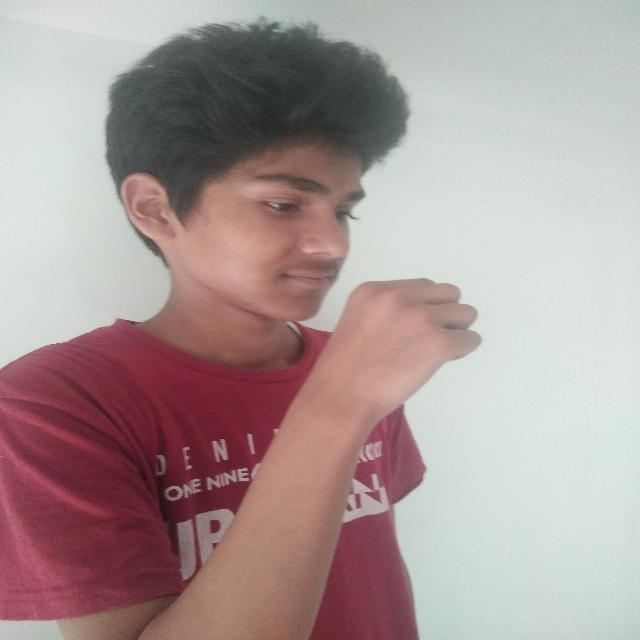Fist Mouth: (107, 35, 503, 424)
